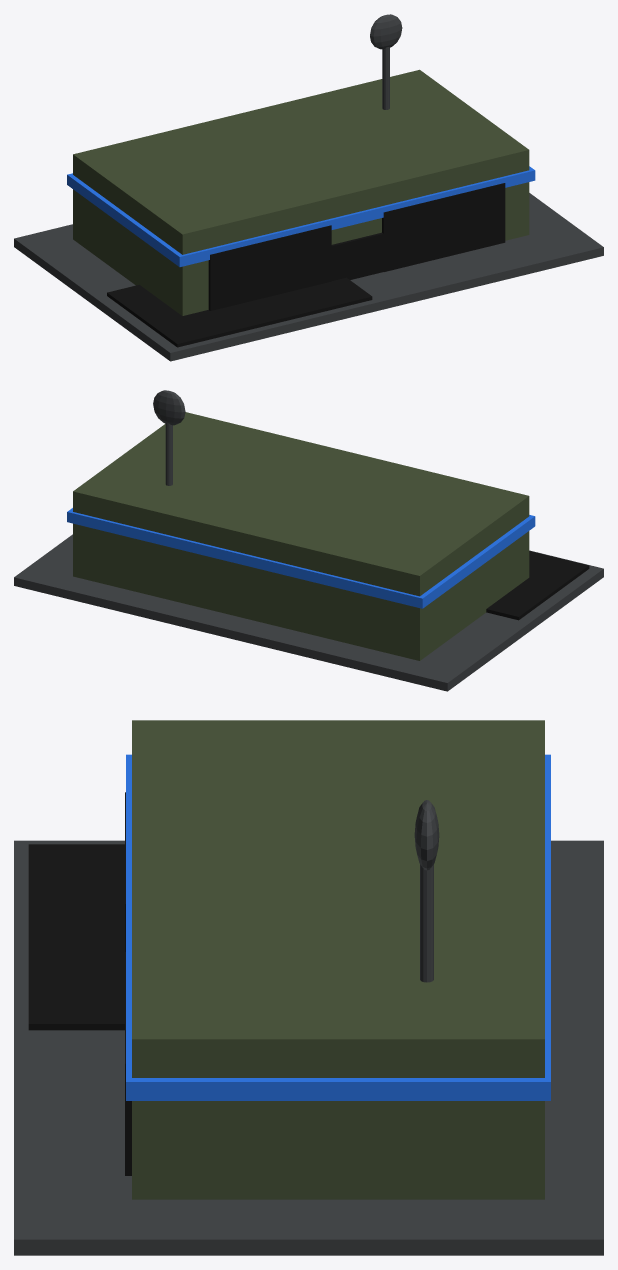
File: kp_airstrip.glb
3 renders of one model, top to bottom at view 1: azimuth 30°, elevation 25°; view 2: azimuth 150°, elevation 25°; view 3: azimuth 270°, elevation 25°, orthographic. The views are drawn at different scales.
Parts seen in each view (by area): view 1: main, base, garage_1, pad, garage_0, team_band, door, dish, mast; view 2: main, base, team_band, pad, dish, mast; view 3: main, base, pad, team_band, mast, dish.
Boxes of the visible parts, x1,y1,x2,y2 form: main: (73, 69, 529, 315); base: (14, 193, 603, 361); garage_1: (382, 183, 505, 271); pad: (107, 277, 372, 347); garage_0: (208, 225, 331, 310); team_band: (67, 166, 535, 266); door: (331, 232, 383, 280); dish: (370, 14, 402, 49); mast: (382, 47, 389, 109); main: (73, 412, 529, 660); base: (14, 534, 603, 691); team_band: (67, 508, 535, 608); pad: (486, 551, 589, 620); dish: (153, 390, 185, 425); mast: (165, 422, 172, 485); main: (132, 720, 544, 1199); base: (14, 840, 603, 1255); pad: (28, 844, 124, 1030); team_band: (126, 754, 550, 1100); mast: (420, 864, 433, 982); dish: (414, 800, 439, 870).
Size of the model in its own units: 16 by 6.6 by 10.
